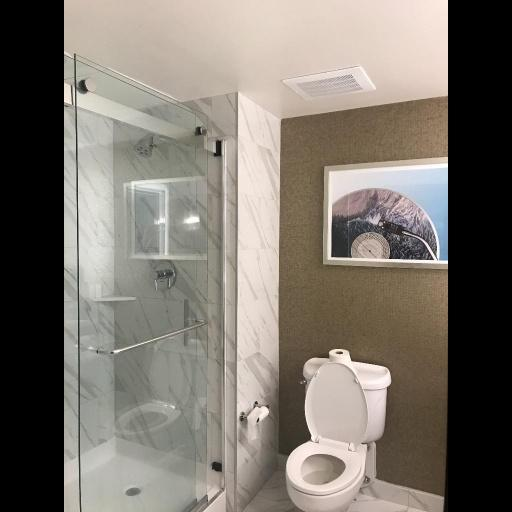clean_toilet: (66, 2, 439, 512)
